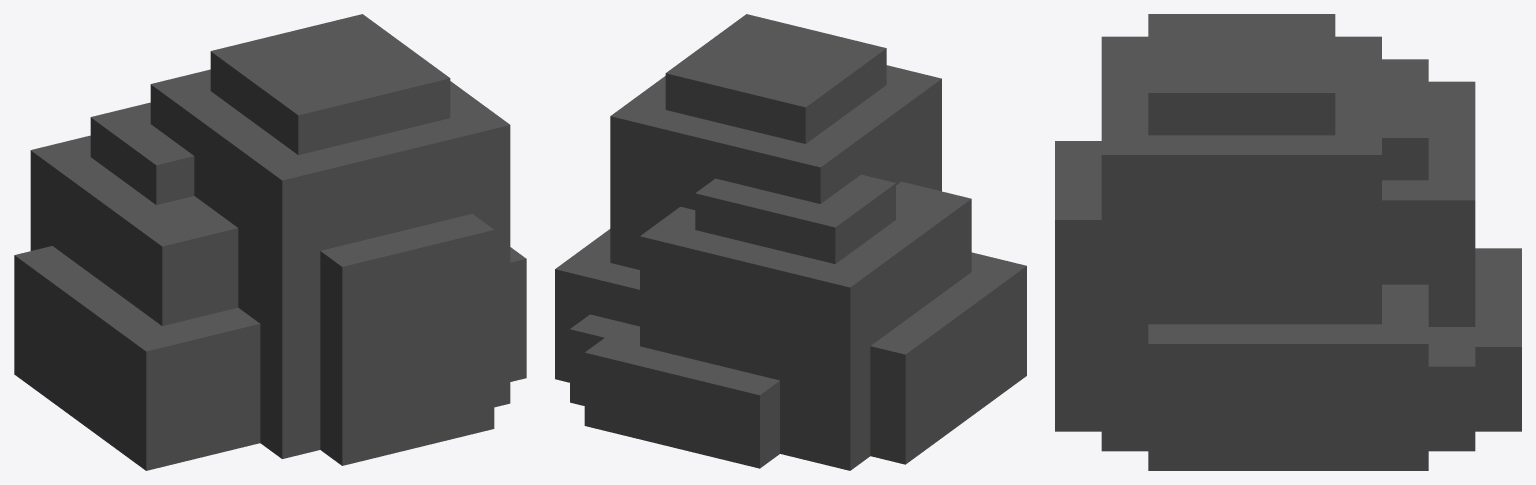
Rendered from foliage_rock_c.glb.
The picture shows the model from 3 angles, left to right: view 1: azimuth 30°, elevation 25°; view 2: azimuth 150°, elevation 25°; view 3: azimuth 270°, elevation 25°; orthographic projection. The views are drawn at different scales.
Parts seen in each view (by area): view 1: foliage_rock_c; view 2: foliage_rock_c; view 3: foliage_rock_c.
Part boxes in pixels (x1,y1,x2,y2): foliage_rock_c: [14, 14, 526, 470]; foliage_rock_c: [555, 14, 1026, 470]; foliage_rock_c: [1055, 14, 1521, 470].
Size of the model in its own units: 2 by 1.6 by 2.
1 material, 1 textured.
